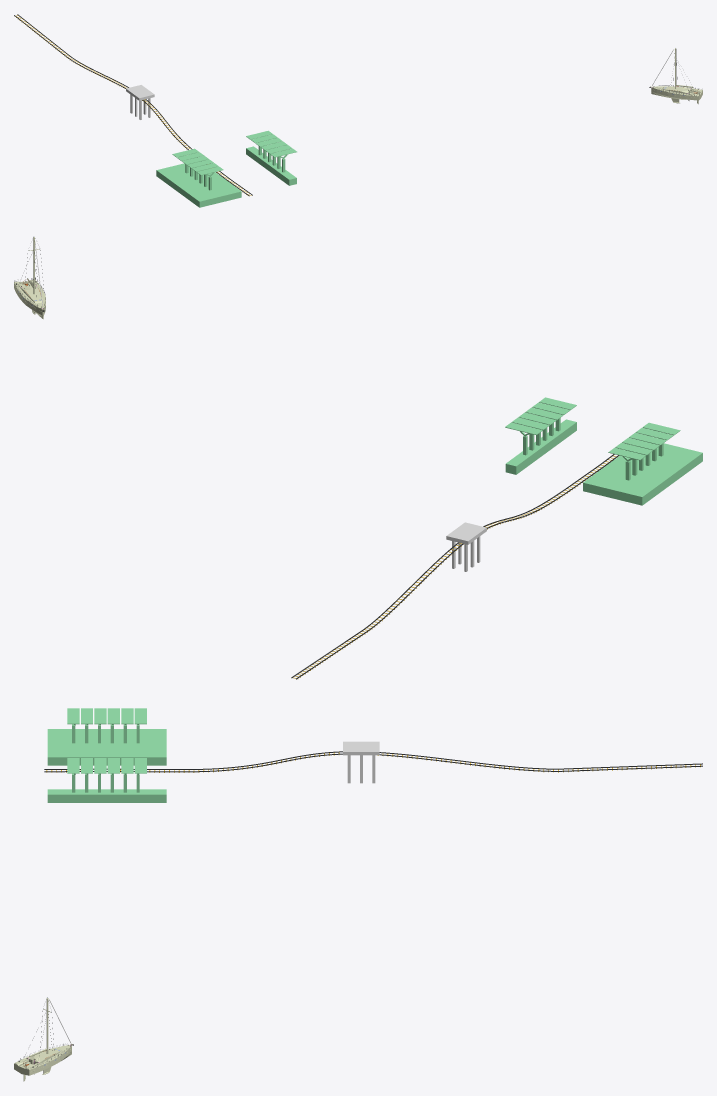
File: areas-compressed.glb
The picture shows the model from 3 angles, top to bottom: view 1: azimuth 30°, elevation 25°; view 2: azimuth 150°, elevation 25°; view 3: azimuth 270°, elevation 25°; orthographic projection. The views are drawn at different scales.
Visible parts, largest first — view 1: fat_base, rail_sleeper, camadadirek, ceil_1, ceil, thin_base, Cube.004; view 2: fat_base, rail_sleeper, ceil, ceil_1, thin_base, Cube.004, camadadirek; view 3: fat_base, rail_sleeper, thin_base, ceil, ceil_1, camadadirek, Cube.004.
Boxes of the visible parts, <box> form: fat_base: <box>156,163,241,207</box>; rail_sleeper: <box>14,14,252,196</box>; camadadirek: <box>651,48,702,104</box>; ceil_1: <box>246,130,296,157</box>; ceil: <box>172,148,223,175</box>; thin_base: <box>246,146,296,185</box>; Cube.004: <box>126,85,154,119</box>; fat_base: <box>583,443,702,505</box>; rail_sleeper: <box>291,454,619,679</box>; ceil: <box>608,422,680,460</box>; ceil_1: <box>505,397,576,435</box>; thin_base: <box>505,419,576,474</box>; Cube.004: <box>446,522,486,571</box>; camadadirek: <box>14,237,45,319</box>; fat_base: <box>47,729,166,765</box>; rail_sleeper: <box>44,751,702,772</box>; thin_base: <box>47,789,166,802</box>; ceil: <box>67,708,146,724</box>; ceil_1: <box>67,758,146,773</box>; camadadirek: <box>14,998,72,1081</box>; Cube.004: <box>343,741,379,783</box>.
Bounding box in the file's own units: 129 × 13.73 × 113.
